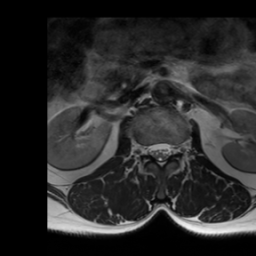CCS_normal: (157, 137, 164, 170)
LFS_normal: (172, 137, 178, 160)
LLS_normal: (164, 136, 171, 162)
RFS_normal: (141, 138, 149, 161)
RLS_normal: (149, 138, 157, 162)
